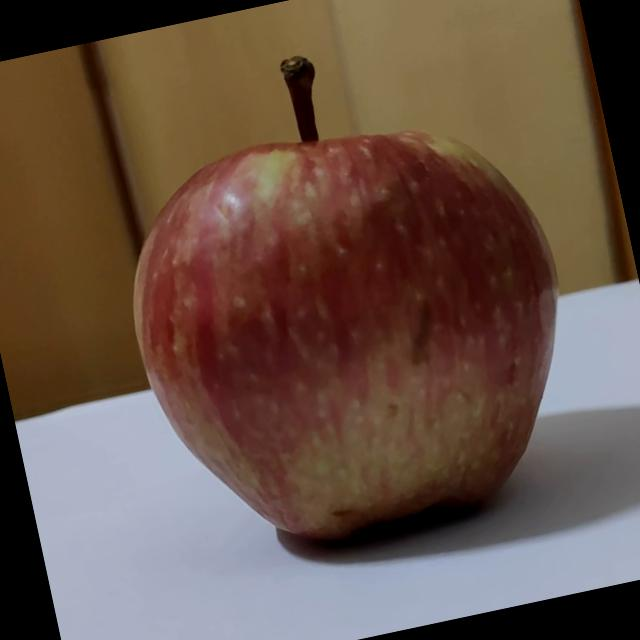apple: (83, 6, 612, 579)
